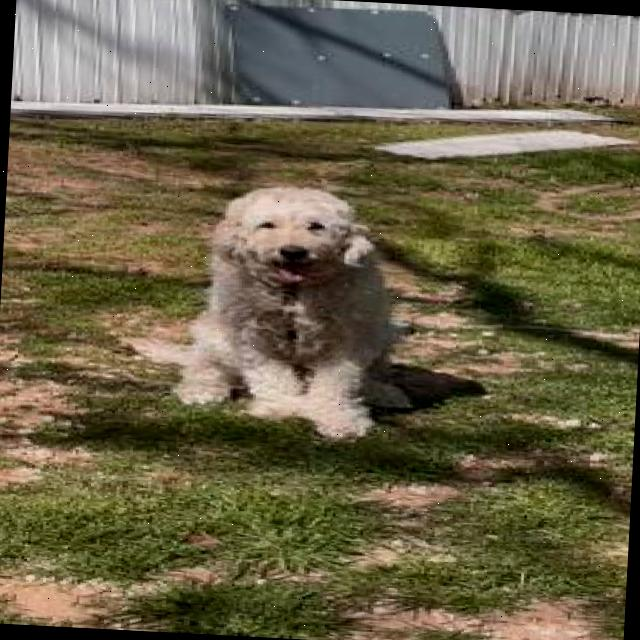Poodle_dog: (198, 178, 403, 308)
